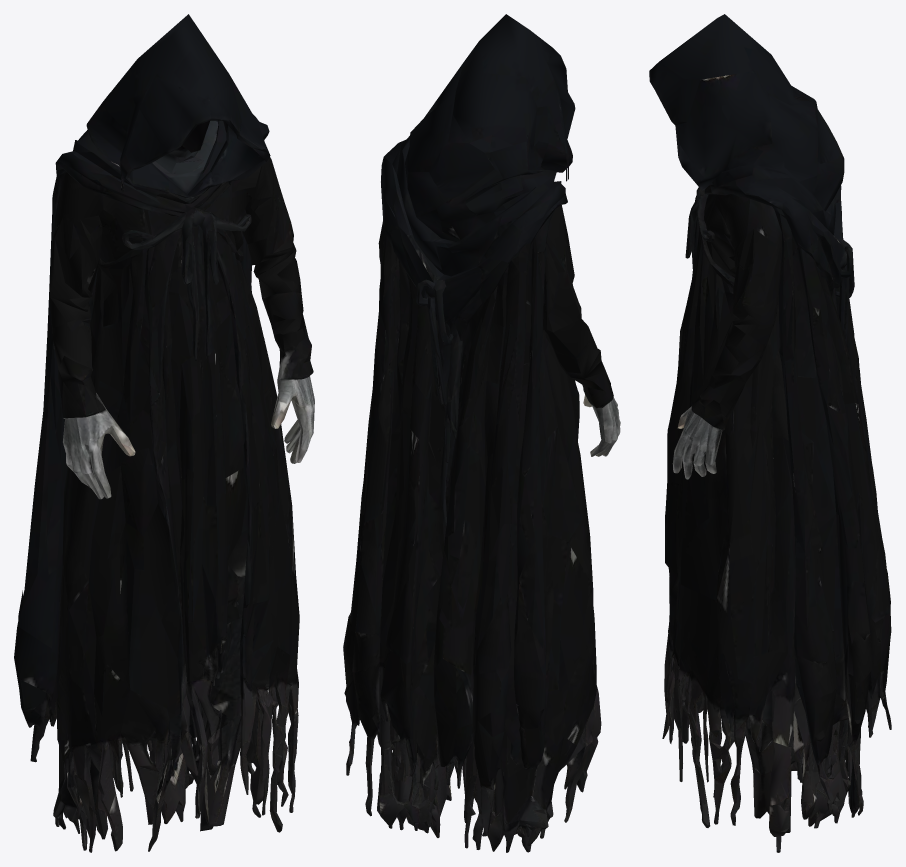
The model's file is dementor.glb.
3 renders of one model, left to right at view 1: azimuth 30°, elevation 25°; view 2: azimuth 150°, elevation 25°; view 3: azimuth 270°, elevation 25°, orthographic. The views are drawn at different scales.
Parts seen in each view (by area): view 1: dementor; view 2: dementor; view 3: dementor.
Boxes of the visible parts, x1,y1,x2,y2 form: dementor: [14, 14, 314, 852]; dementor: [343, 14, 620, 852]; dementor: [649, 14, 891, 852].
Bounding box in the file's own units: 0.8728 × 2.9 × 0.8.
Materials: 1 (1 with a texture image).
